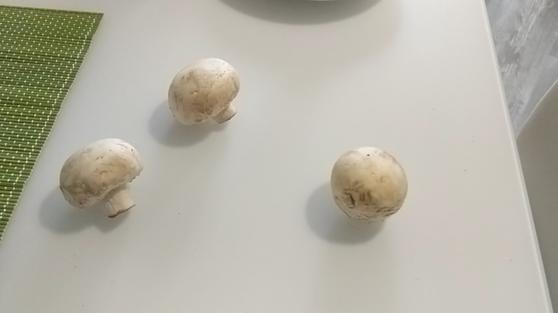champignon: (61, 138, 147, 222), (331, 144, 410, 220), (170, 56, 240, 126)
